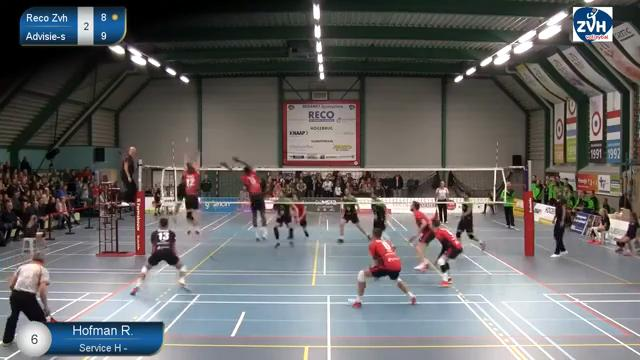attacco: (165, 149, 188, 226)
muro: (219, 151, 268, 241), (178, 148, 206, 235)
